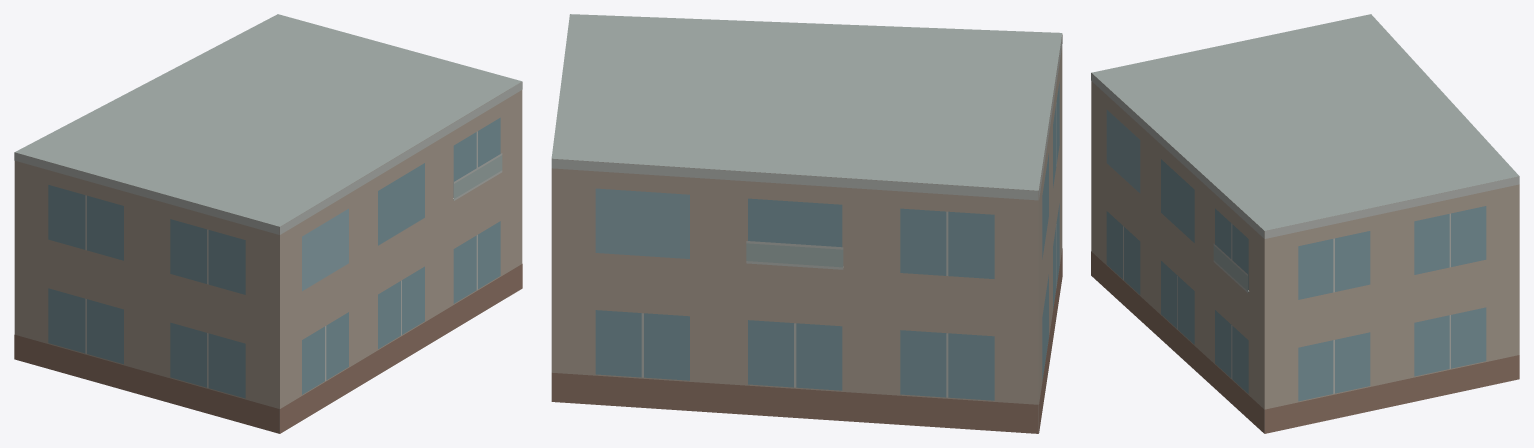
The model's file is survey-upis-32946437.glb.
3 renders of one model, left to right at view 1: azimuth 30°, elevation 25°; view 2: azimuth 150°, elevation 25°; view 3: azimuth 270°, elevation 25°, orthographic. The views are drawn at different scales.
Parts seen in each view (by area): view 1: survey-upis-32946437.tmp; view 2: survey-upis-32946437.tmp; view 3: survey-upis-32946437.tmp.
Part boxes in pixels (<box>): survey-upis-32946437.tmp: <box>14,14,522,433</box>; survey-upis-32946437.tmp: <box>551,14,1062,433</box>; survey-upis-32946437.tmp: <box>1091,14,1519,433</box>.
Size of the model in its own units: 14 by 6.1 by 11.68.
